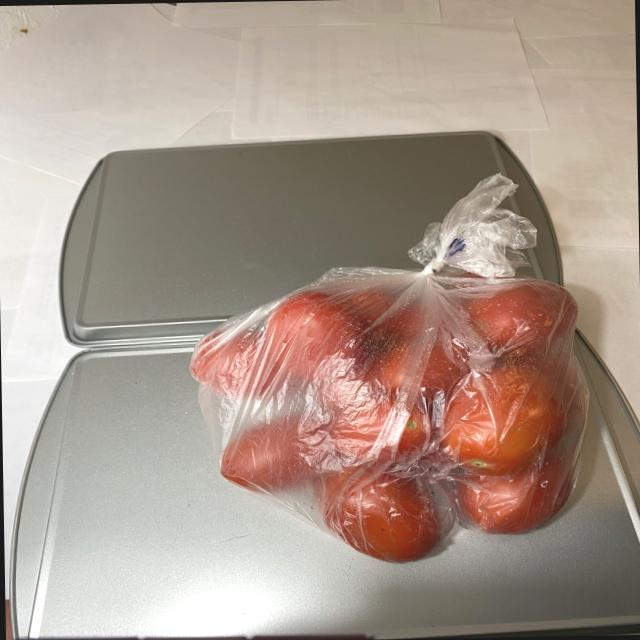tomato: (198, 274, 596, 562)
